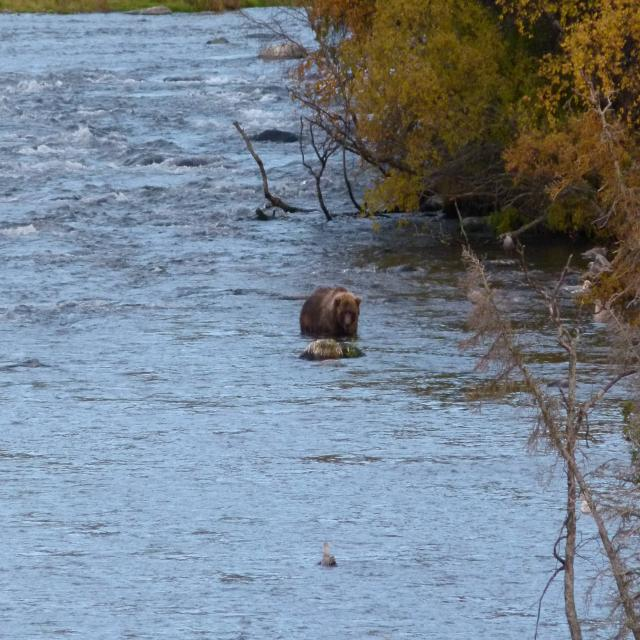bear face: (299, 288, 362, 335)
